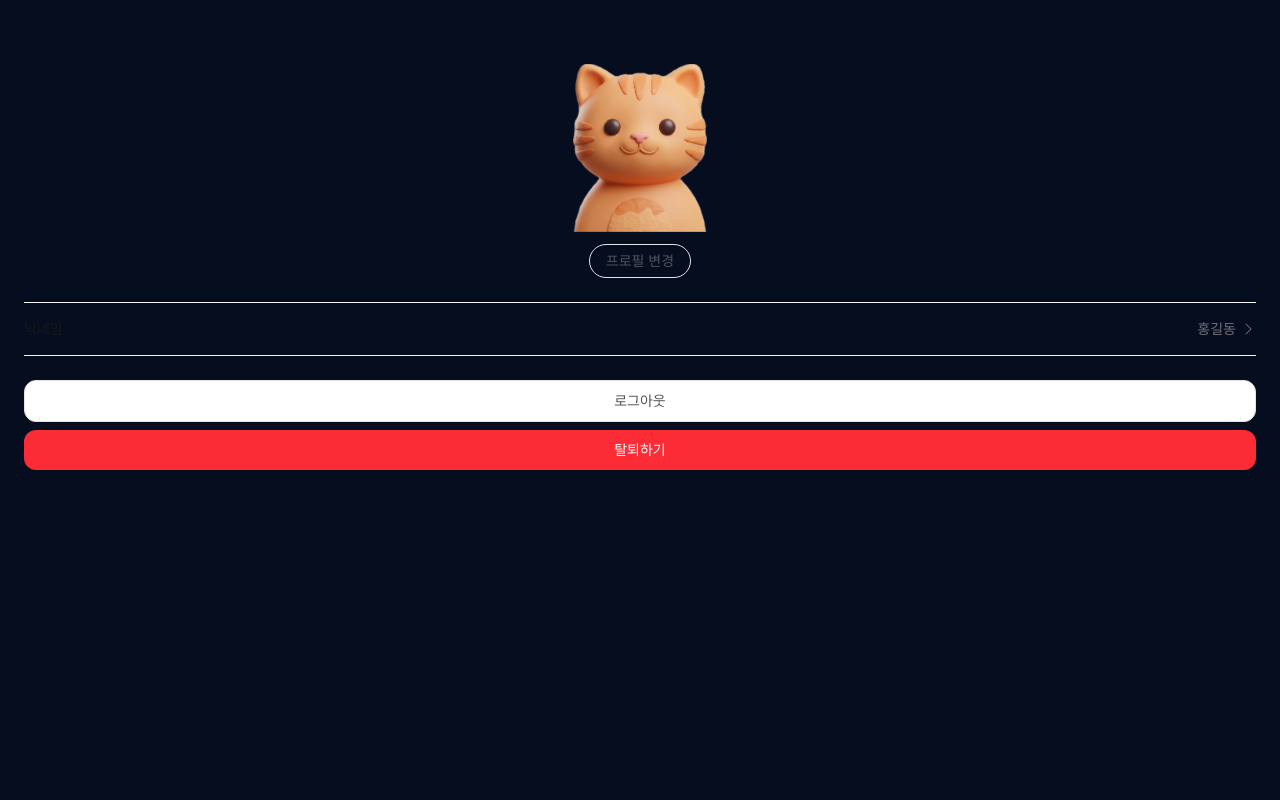
Scenario: ProfileSettingsView › 그리드에서 다른 아바타 클릭 시 상단 이미지의 src가 변경되고 변경하기 버튼이 활성화된다
Click the button "프로필 변경": click(640, 261) top-left (589, 244), bottom-right (691, 278)
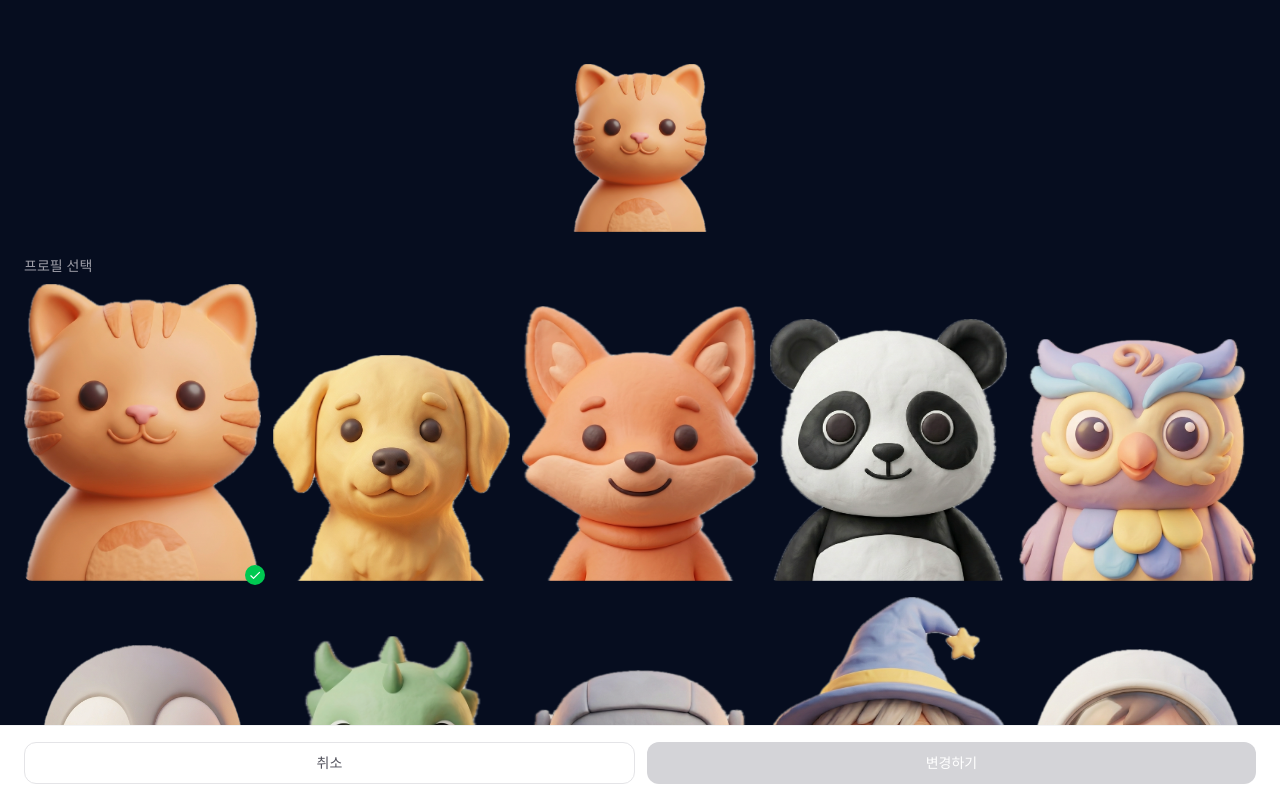
Click the button named "강아지 아바타로 변경": click(391, 468) top-left (273, 355), bottom-right (510, 581)
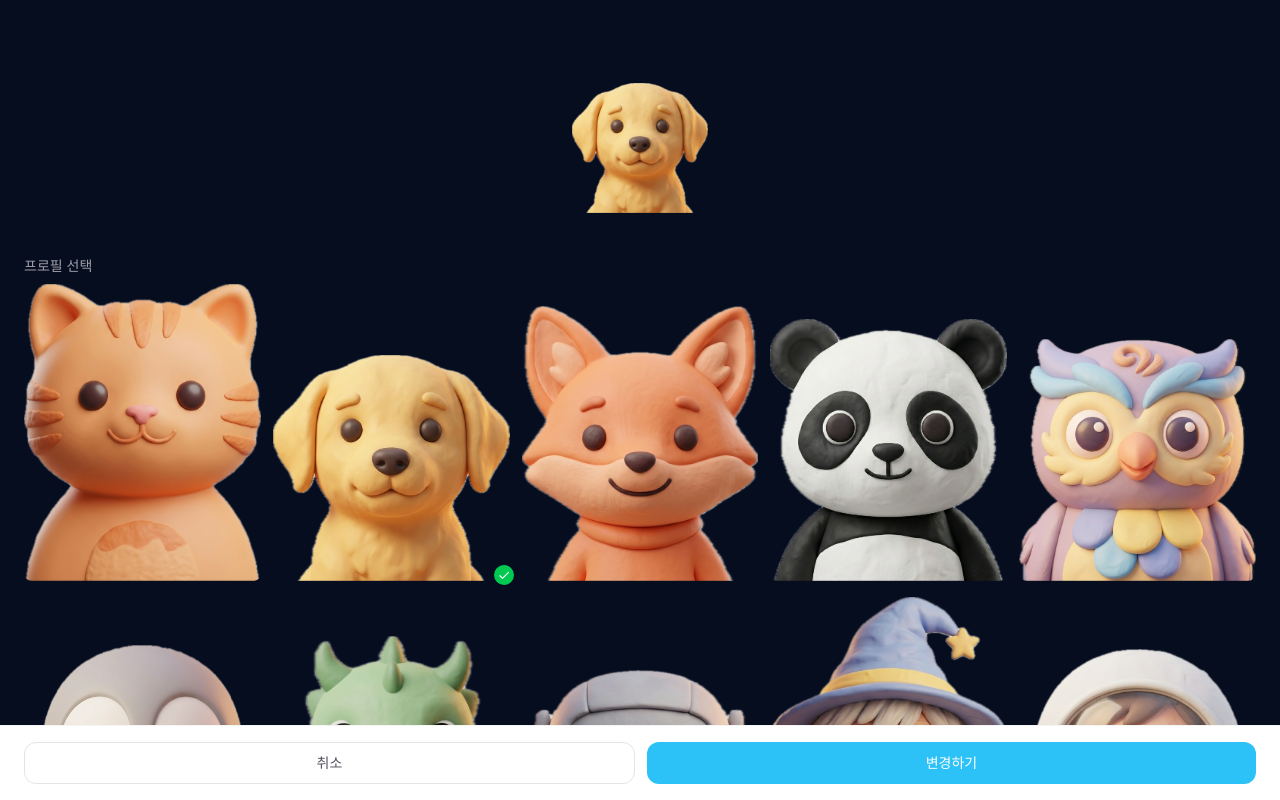
Expected: the button "변경하기" is enabled, top-left (647, 742), bottom-right (1256, 784)
